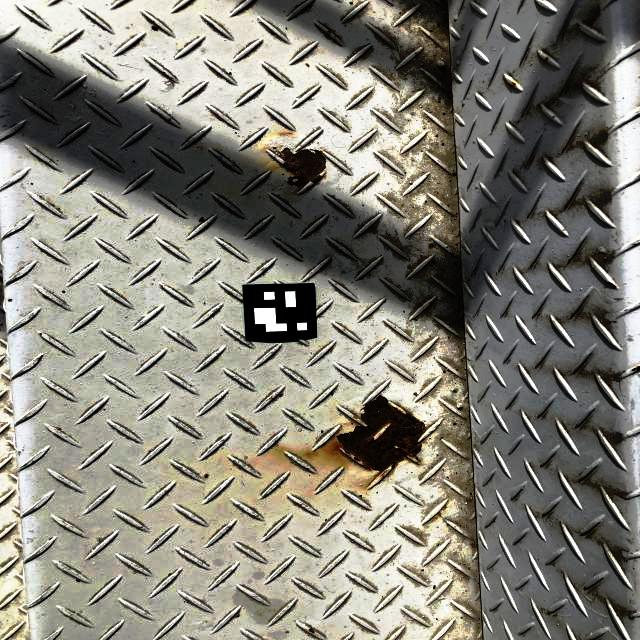Corrosion: (337, 396, 426, 471), (277, 148, 326, 187), (306, 628, 316, 635)
